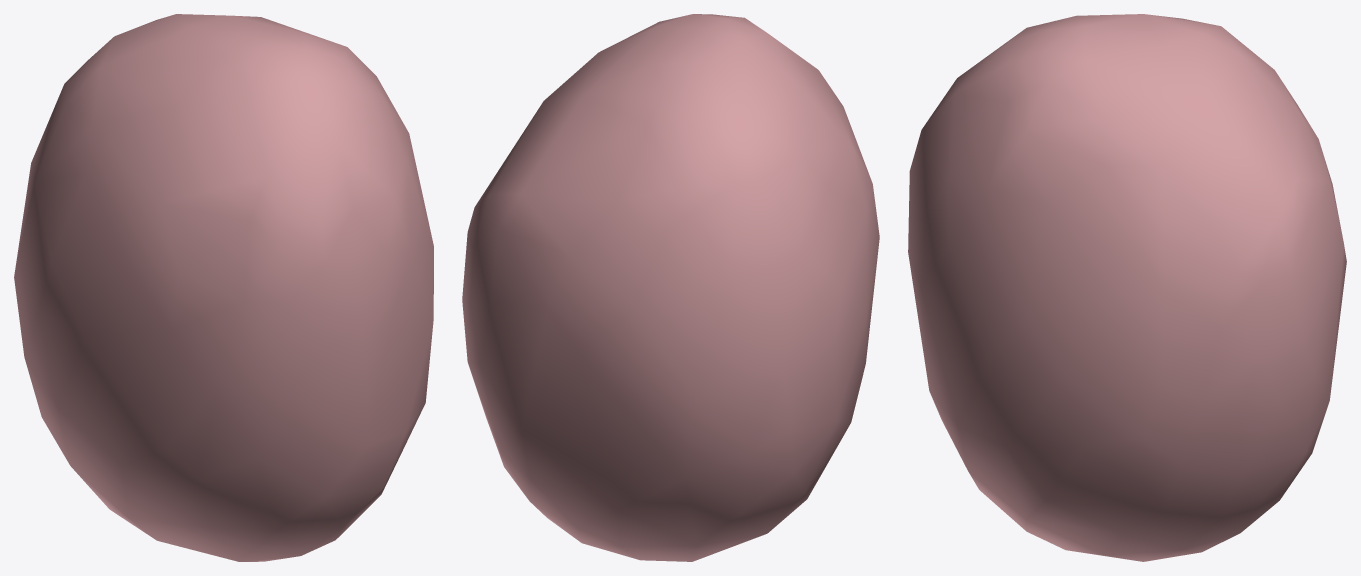
File: fma7211.glb
3 views of the same model, side by side, from view 1: azimuth 30°, elevation 25°; view 2: azimuth 150°, elevation 25°; view 3: azimuth 270°, elevation 25° (orthographic). The views are drawn at different scales.
Parts seen in each view (by area): view 1: FMA7211; view 2: FMA7211; view 3: FMA7211.
Boxes of the visible parts, x1=… form: FMA7211: x1=14, y1=14, x2=433, y2=561; FMA7211: x1=462, y1=14, x2=879, y2=561; FMA7211: x1=908, y1=14, x2=1346, y2=561.
Size of the model in its own units: 0.0208 by 0.0291 by 0.0225.
